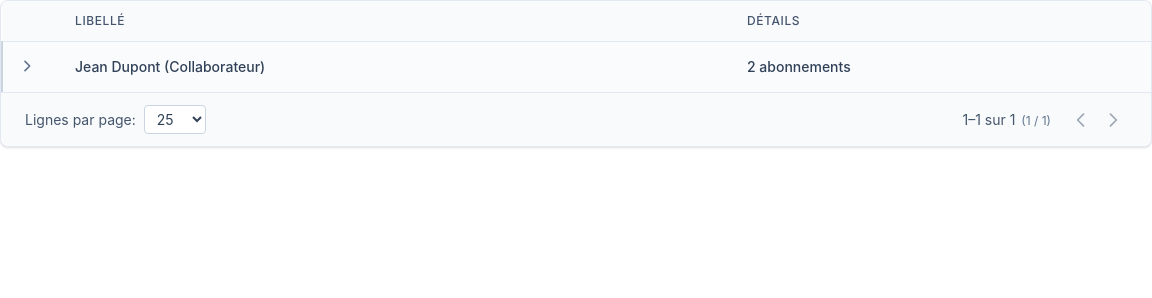
Test: ResponsiveDataTable — Upgrade & Robustesse › Arborescence multi-niveaux (jusqu’à 3 niveaux) › déplie successivement le niveau 0 puis le niveau 1 pour révéler le niveau 2
Check: the text "Jean Dupont (Collaborateur)" is shown, box [51,42,723,92]
Check: the text "Abonnement Gym Pro" is not shown
Déplier N0
Click the button named "Déplier".
click(27, 66)  # box [15,54,39,78]
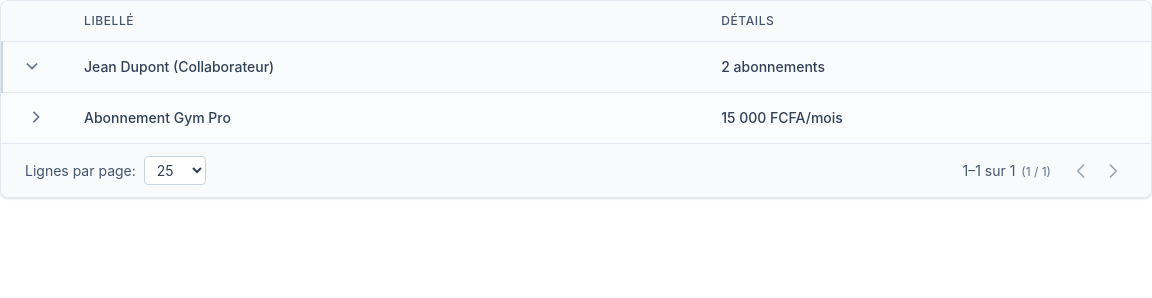
Check: the text "Échéance Janvier 2026" is not shown
Check: the text "Abonnement Gym Pro" is shown, box [60,92,697,143]
Déplier N1 (le 2ème bouton déplier apparu)
Click the button named "Déplier".
click(36, 117)  # box [24,105,48,129]
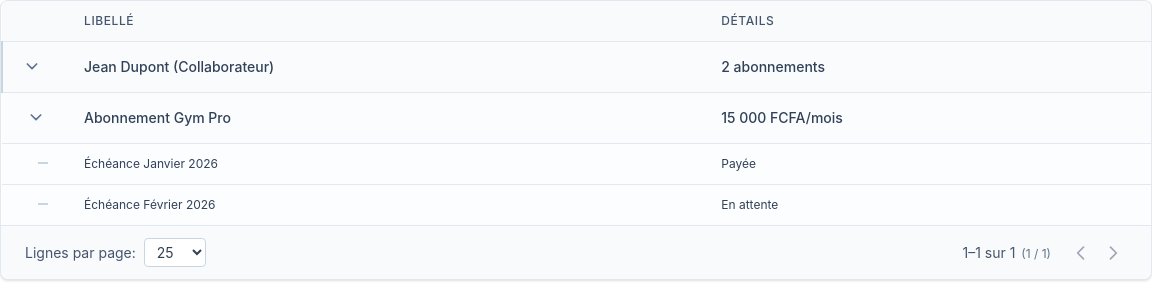
Check: the text "Échéance Janvier 2026" is shown, box [60,144,697,184]
Check: the text "Échéance Février 2026" is shown, box [60,184,697,225]
